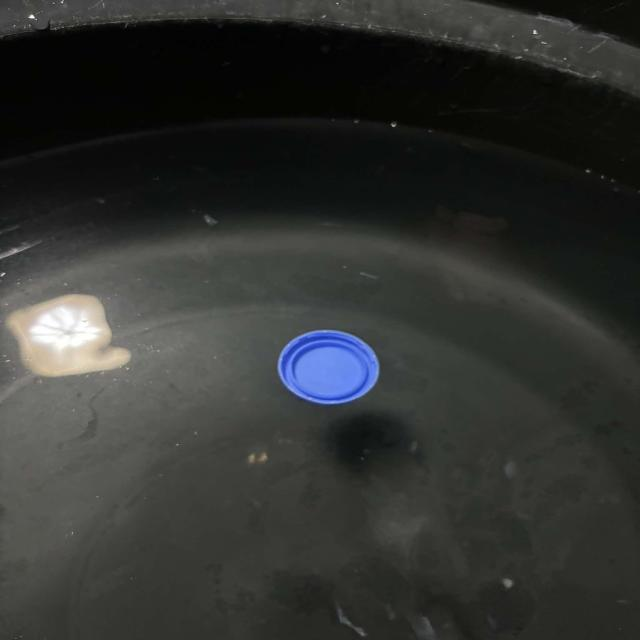Bottle Lid: (259, 316, 432, 424)
